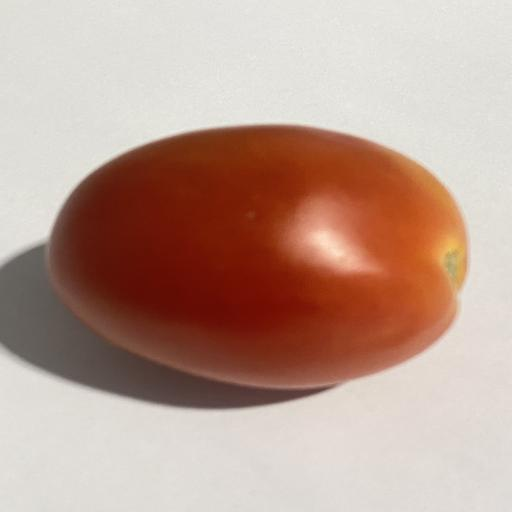ripe: (47, 125, 467, 388)
